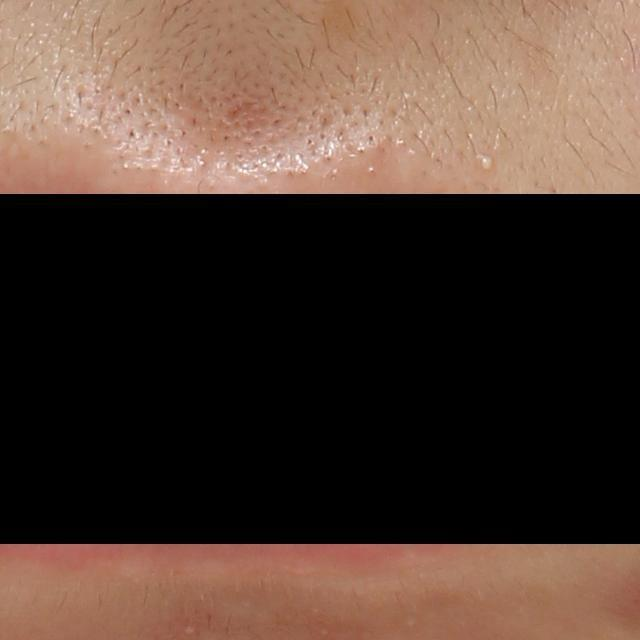comedo: (183, 624, 197, 637)
pustule: (475, 153, 496, 174)
